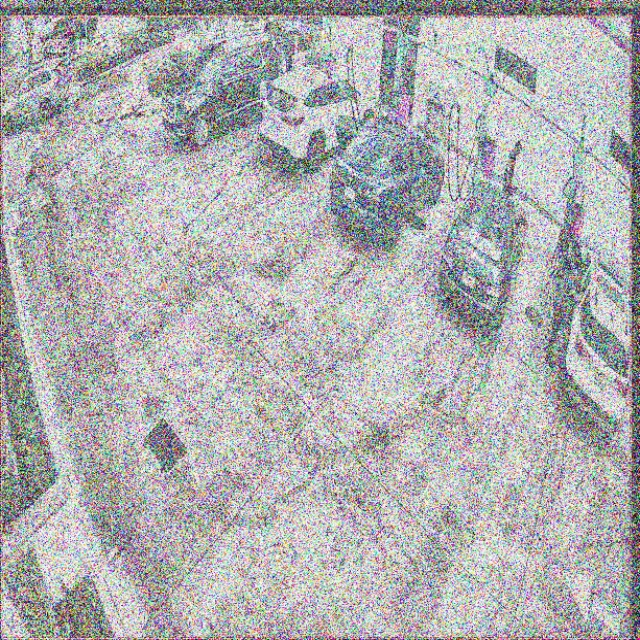Car: (331, 117, 444, 245), (441, 180, 527, 331), (260, 73, 375, 172)
